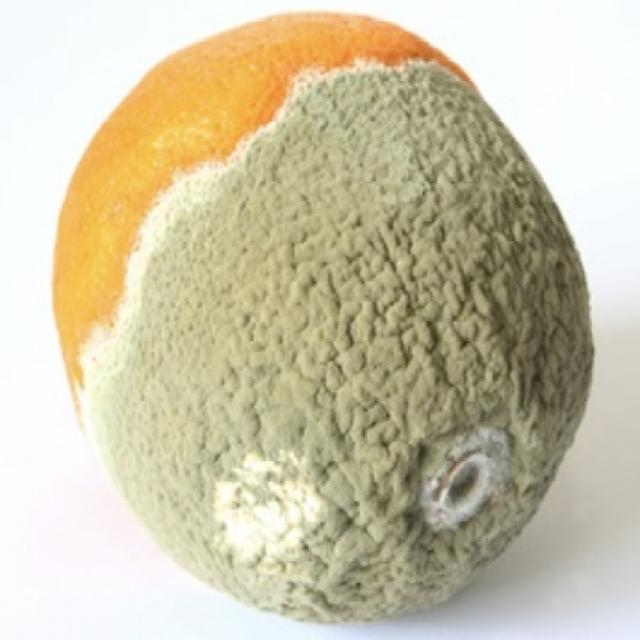rotten-orange: (53, 9, 596, 624)
